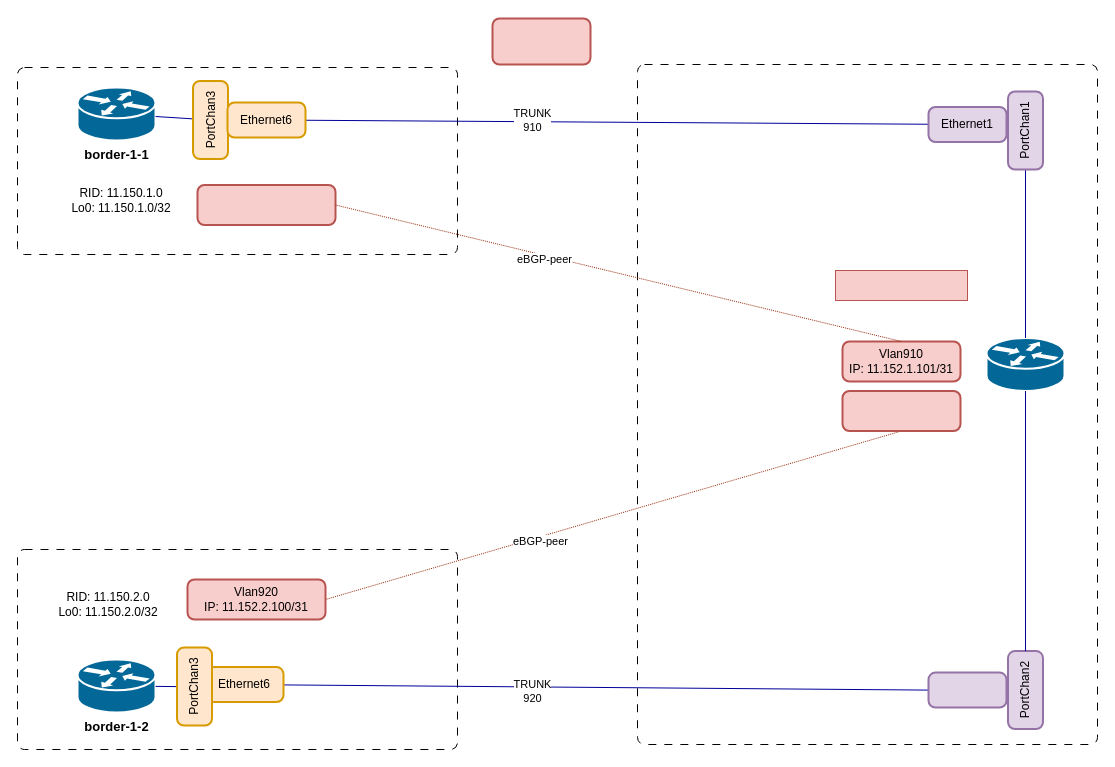
Some shapes in this 1115 by 767 pixel diagram are drawn without their labels. Each missing label, with the centre of its shape:
"Ethernet2" goes at point (967, 689).
"Ext-Router-1" goes at point (1025, 364).
"RID: 11.250.1.10 Lo10: 11.250.1.10/32" goes at point (901, 285).
"Vlan910 IP: 11.152.1.100/31" goes at point (266, 205).
"Vlan920 IP: 11.152.2.101/31" goes at point (901, 411).
"Vrf_ADM" goes at point (541, 41).
